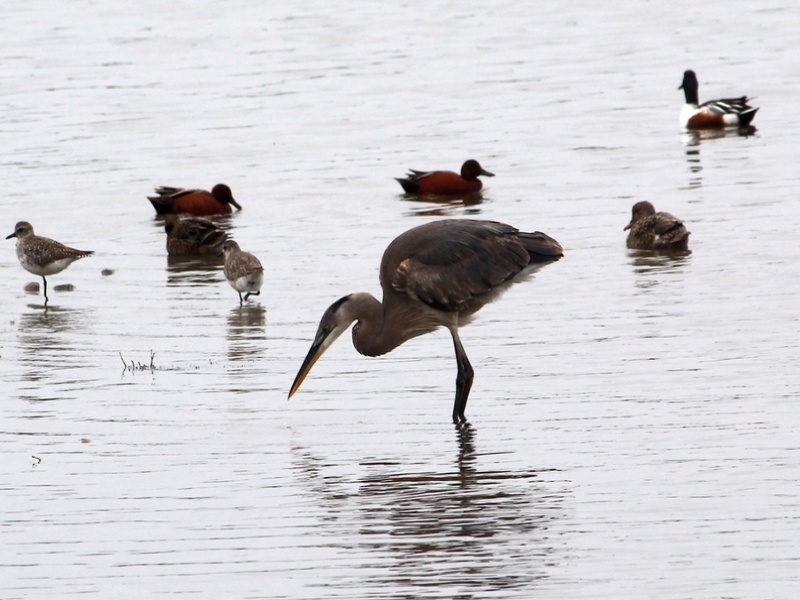heron: (284, 217, 566, 432)
